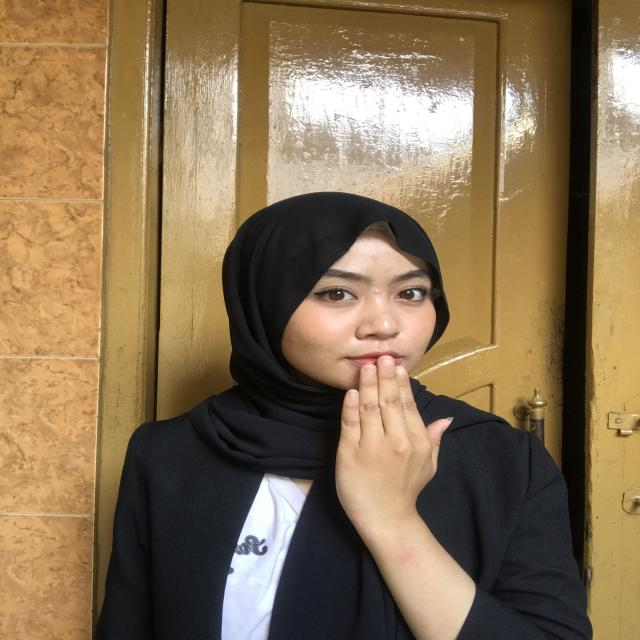ganteng: (304, 350, 478, 566)
